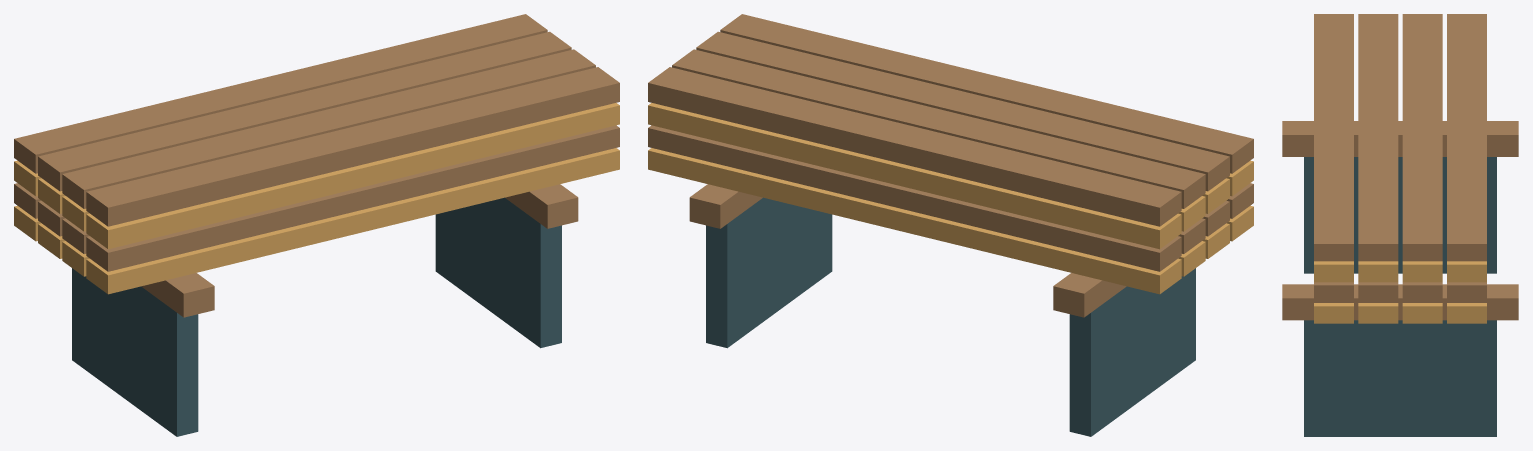
The model's file is AC_Timber_Stack.glb.
3 views of the same model, side by side, from view 1: azimuth 30°, elevation 25°; view 2: azimuth 150°, elevation 25°; view 3: azimuth 270°, elevation 25° (orthographic). The views are drawn at different scales.
Parts seen in each view (by area): view 1: AC_Timber_Stack; view 2: AC_Timber_Stack; view 3: AC_Timber_Stack.
Boxes of the visible parts, x1=… form: AC_Timber_Stack: x1=14, y1=14, x2=619, y2=436; AC_Timber_Stack: x1=648, y1=14, x2=1253, y2=436; AC_Timber_Stack: x1=1282, y1=14, x2=1518, y2=436.
Size of the model in its own units: 3.8 by 1.71 by 1.65.
